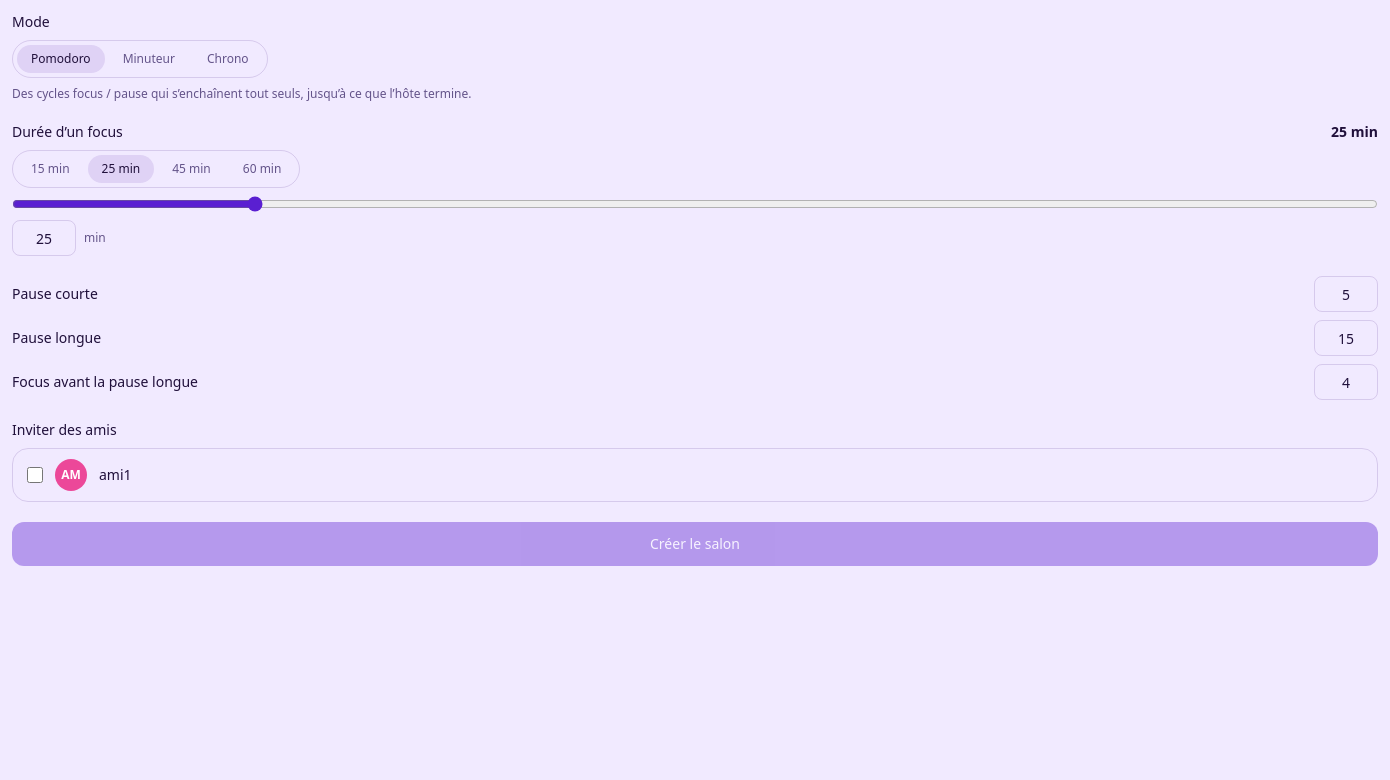
Test: CreateRoomForm — LOT F3 › affiche la durée choisie en direct et la met à jour avec les préréglages (LOT H1, §4)
Expected: the text "25 min" is shown, [1331, 122, 1378, 142]
Click the button "45 min" at (192, 169), box [158, 155, 225, 183]
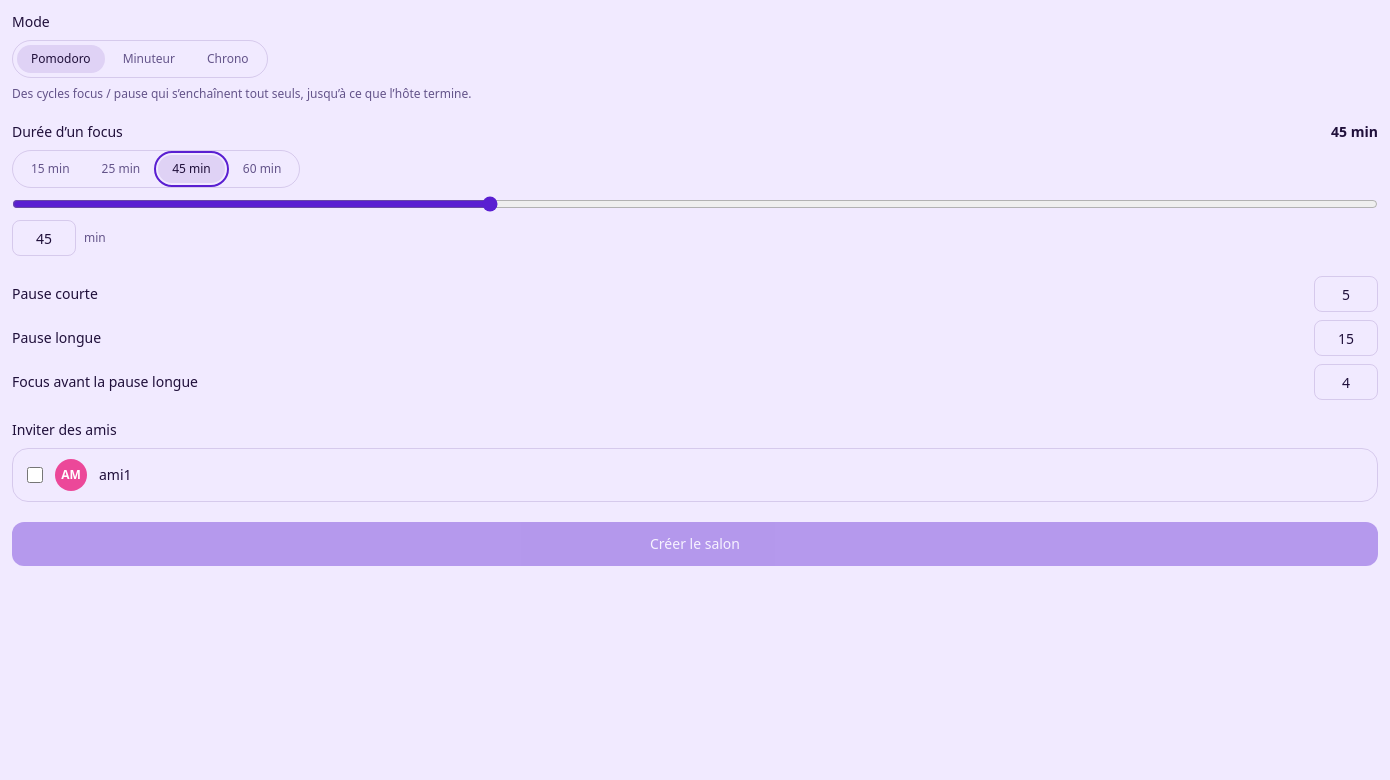
Result: the text "45 min" is shown at [1331, 122, 1378, 142]
